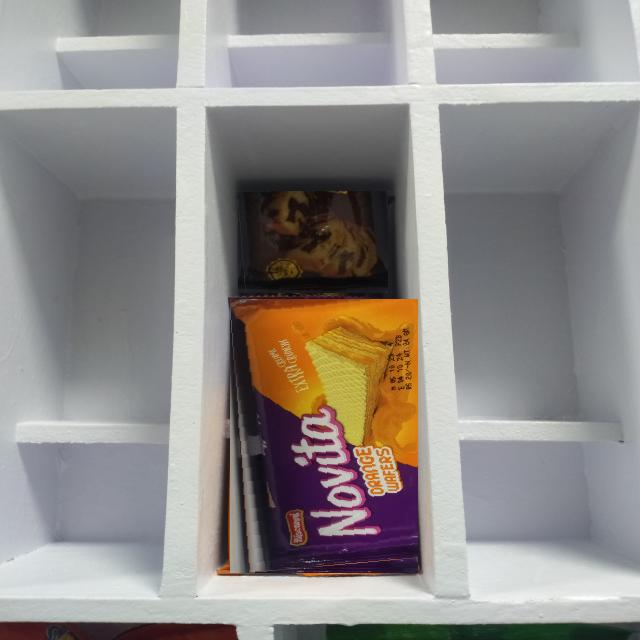Plastic: (229, 300, 418, 574), (237, 191, 388, 293)
